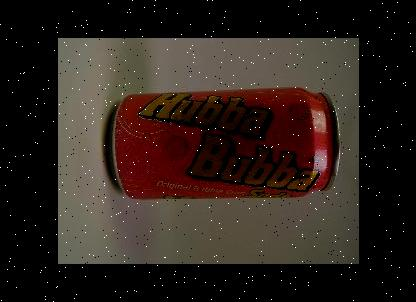Can: (106, 87, 340, 201)
